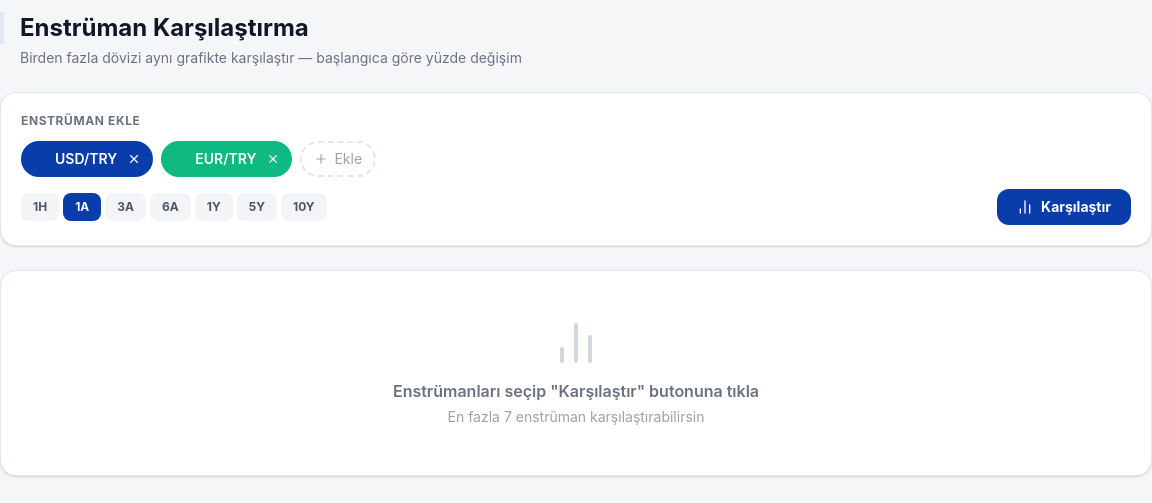
Test: ComparePage (FX enstrüman karşılaştırma) — jsdom + testing-library › "Ekle" butonuna tıklayınca öneri paneli açılır ve arama kutusu çıkar
The image size is (1152, 503).
Click the button "Ekle" at {"x": 338, "y": 159}, box [300,141,376,177]
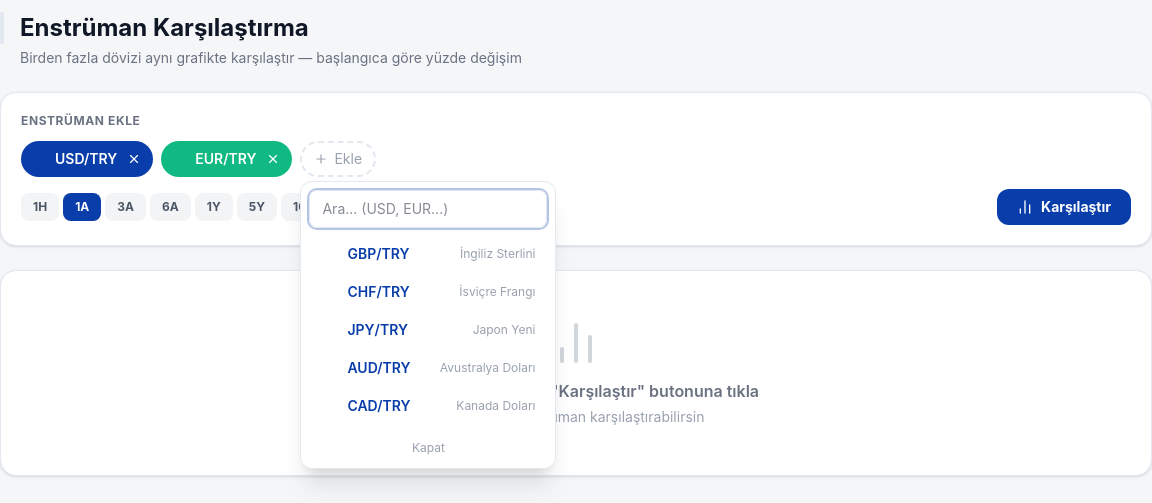
Expected: the field with placeholder "Ara... (USD, EUR...)" is shown, [310,190,548,228]
Expected: the text "GBP/TRY" is shown, [348,244,410,264]
